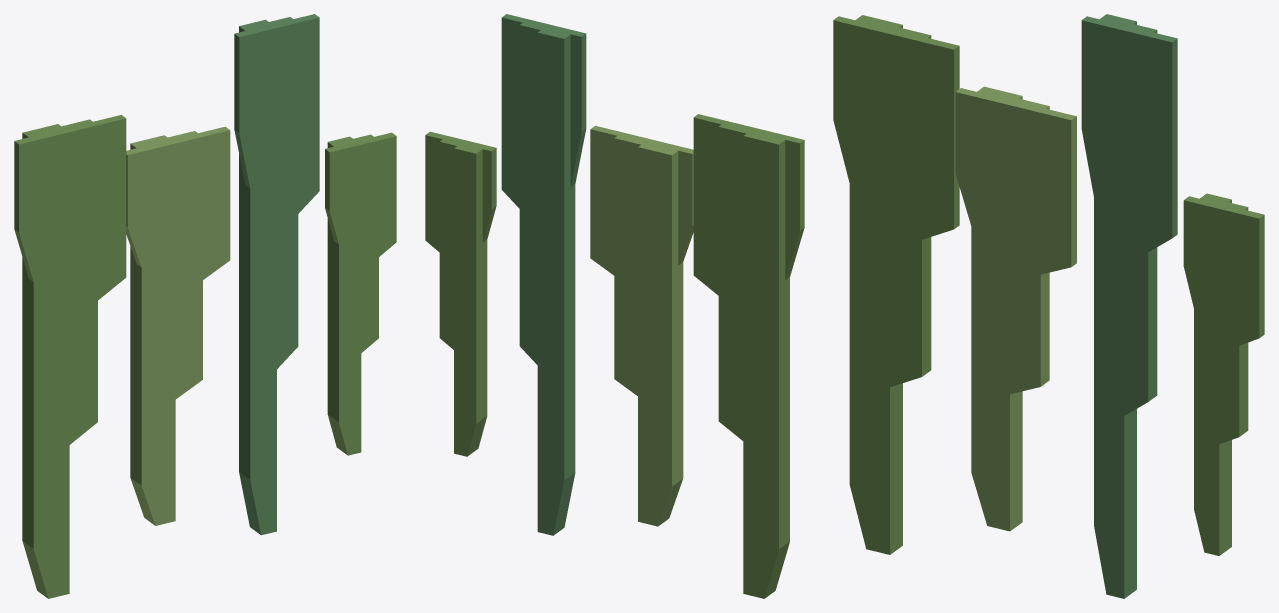
File: veg_wall_hanging_moss.glb
3 renders of one model, left to right at view 1: azimuth 30°, elevation 25°; view 2: azimuth 150°, elevation 25°; view 3: azimuth 330°, elevation 25°, orthographic. The views are drawn at different scales.
Visible parts, largest first — view 1: clump_0, clump_2, clump_1, clump_3; view 2: clump_0, clump_2, clump_1, clump_3; view 3: clump_0, clump_2, clump_1, clump_3.
Part boxes in pixels (bbox=[...]): clump_0: bbox=[14, 115, 126, 598]; clump_2: bbox=[234, 14, 319, 535]; clump_1: bbox=[126, 126, 230, 525]; clump_3: bbox=[325, 132, 396, 455]; clump_0: bbox=[693, 114, 804, 598]; clump_2: bbox=[501, 14, 586, 535]; clump_1: bbox=[590, 125, 693, 526]; clump_3: bbox=[425, 131, 496, 456]; clump_0: bbox=[833, 15, 959, 554]; clump_2: bbox=[1081, 14, 1177, 598]; clump_1: bbox=[955, 86, 1076, 531]; clump_3: bbox=[1183, 193, 1264, 555].
Bounding box in the file's own units: 0.6758 × 0.8813 × 0.035.
